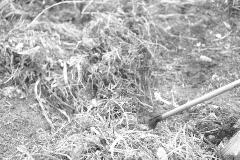organic: (98, 56, 132, 90), (44, 31, 80, 63), (77, 128, 112, 150), (131, 136, 157, 160)
